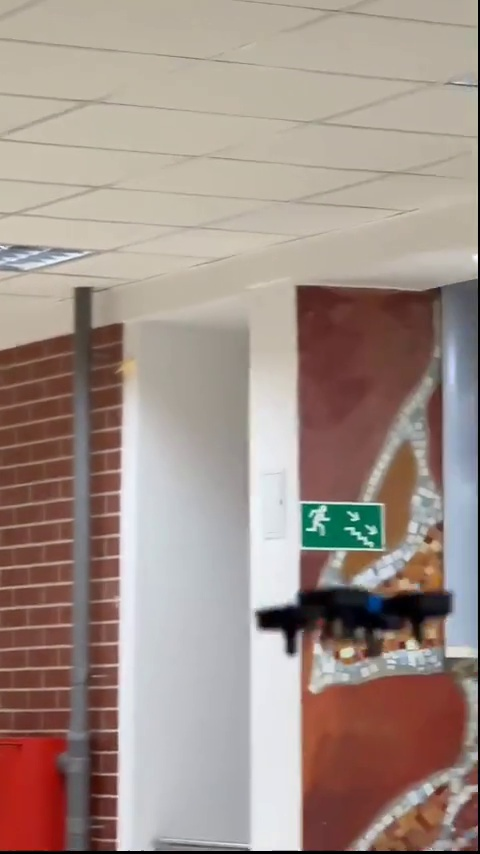drone: (254, 587, 452, 649)
